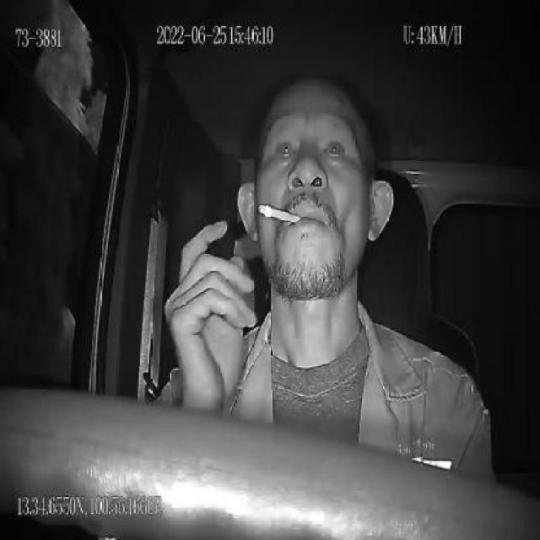smoking: (258, 201, 301, 225)
